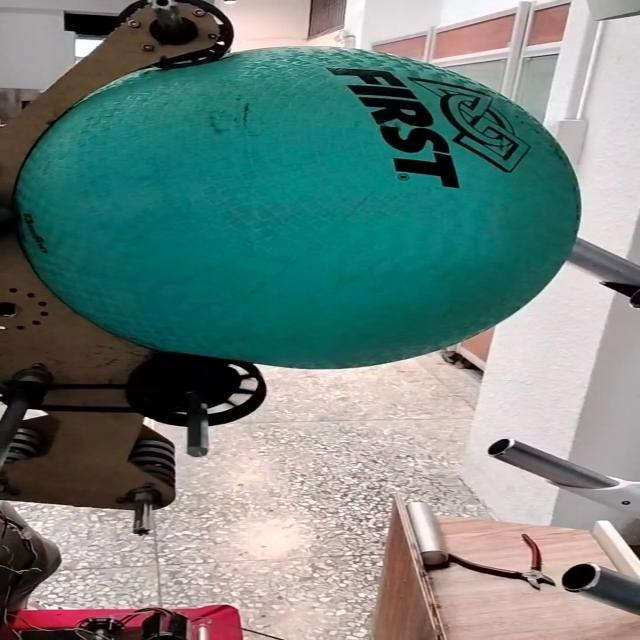ALGAE: (10, 50, 578, 372)
